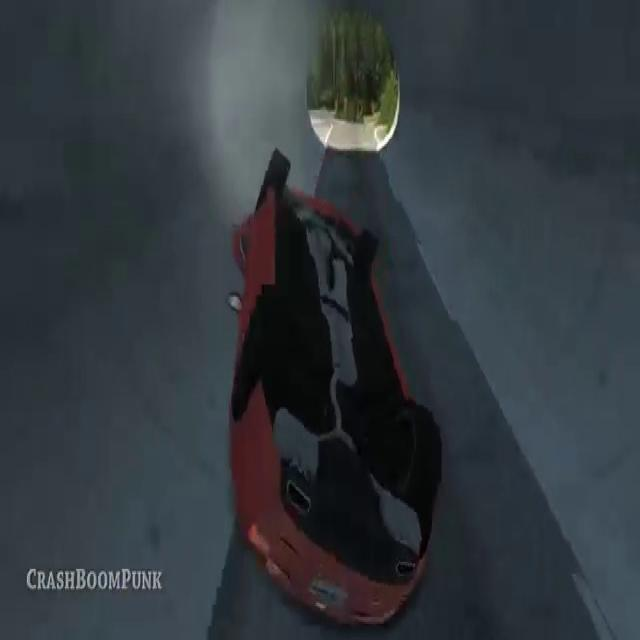severe: (222, 143, 446, 632)
